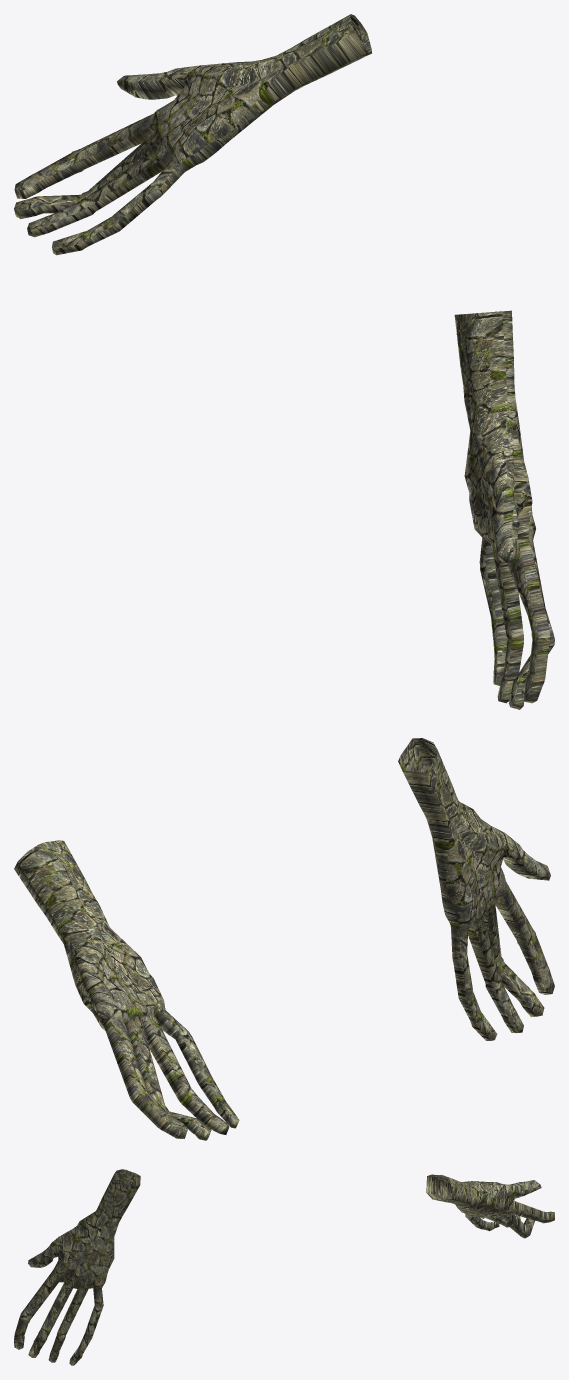
File: arms.FBX
3 renders of one model, top to bottom at view 1: azimuth 30°, elevation 25°; view 2: azimuth 150°, elevation 25°; view 3: azimuth 270°, elevation 25°, orthographic. The views are drawn at different scales.
Parts seen in each view (by area): view 1: My Hand, My Hand001; view 2: My Hand, My Hand001; view 3: My Hand001, My Hand.
Boxes of the visible parts, x1,y1,x2,y2 form: My Hand: (14,14,371,255); My Hand001: (454,310,554,709); My Hand: (14,840,239,1140); My Hand001: (398,738,554,1040); My Hand001: (14,1169,140,1365); My Hand: (426,1174,554,1238).
Size of the model in its own units: 3.62 by 4.89 by 10.06.
